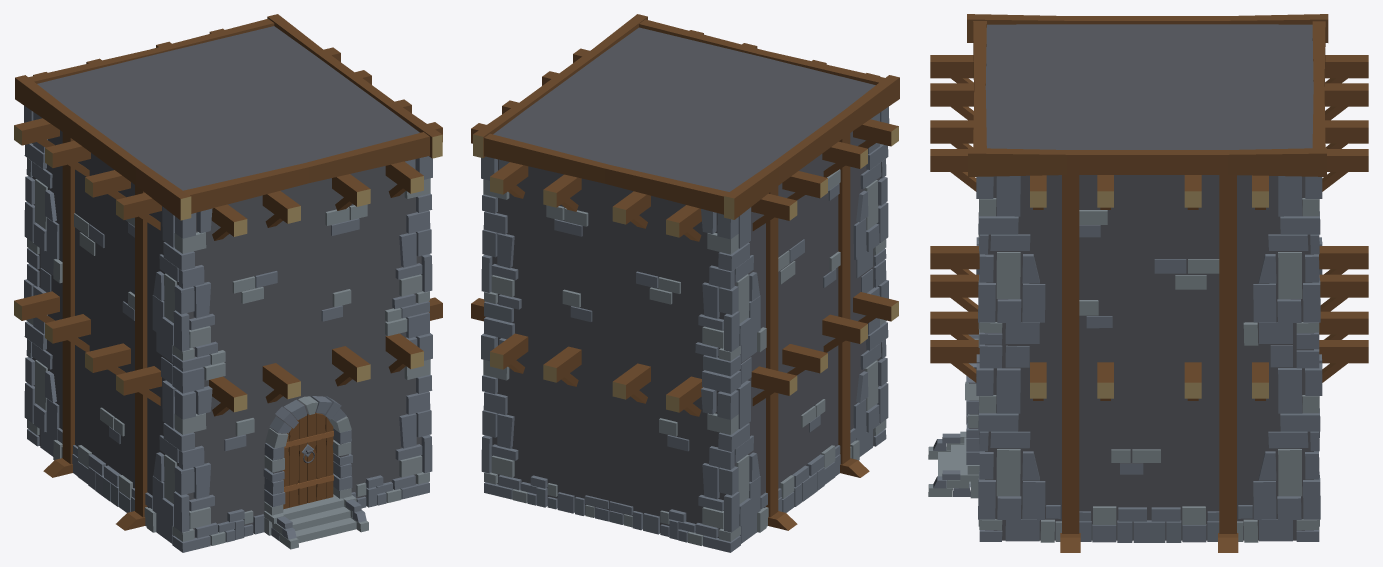
Rendered from house_3.005_lev2.glb.
3 views of the same model, side by side, from view 1: azimuth 30°, elevation 25°; view 2: azimuth 150°, elevation 25°; view 3: azimuth 270°, elevation 25° (orthographic). The views are drawn at different scales.
Parts seen in each view (by area): view 1: house_3.005_lev2; view 2: house_3.005_lev2; view 3: house_3.005_lev2.
Boxes of the visible parts, x1,y1,x2,y2 form: house_3.005_lev2: (14,14,442,552); house_3.005_lev2: (471,14,899,552); house_3.005_lev2: (928,14,1368,552).
Size of the model in its own units: 3.87 by 4.18 by 4.25.
